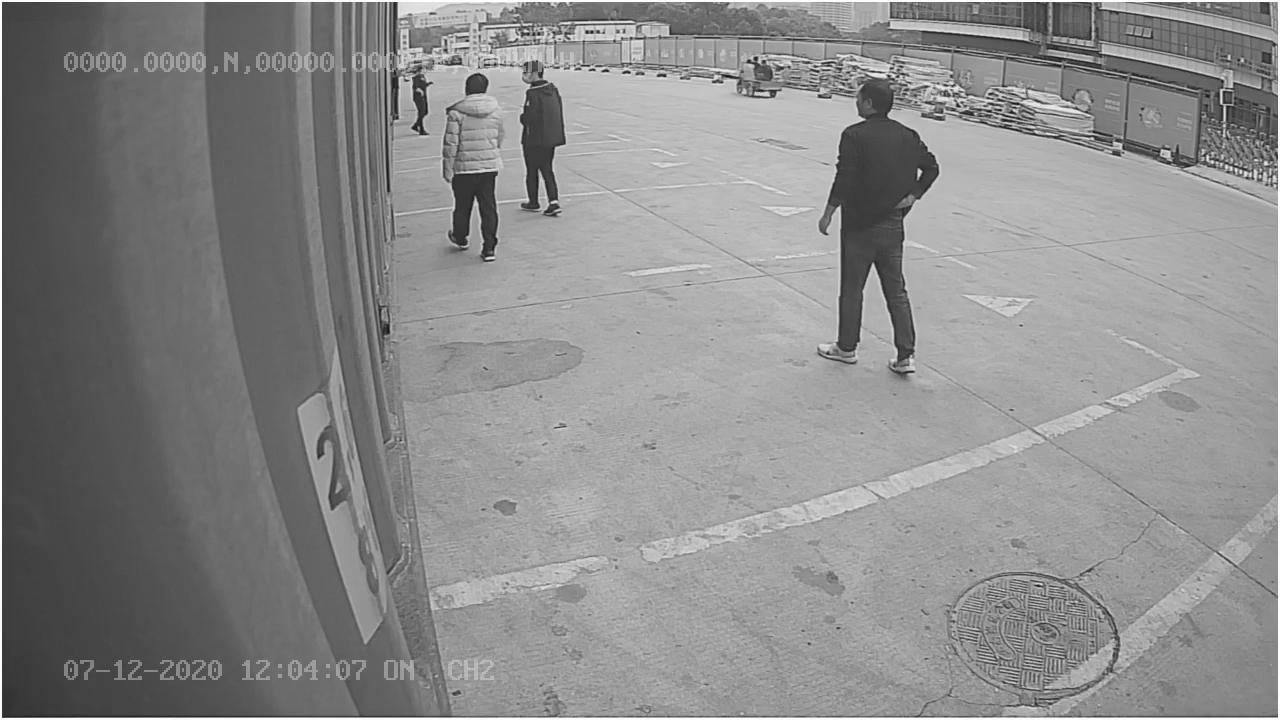person: (813, 79, 941, 374)
